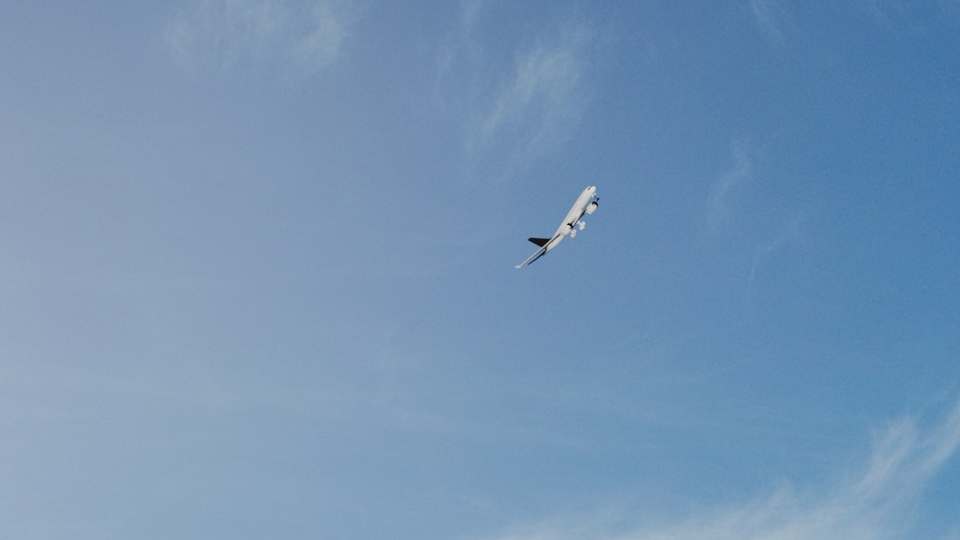plane: (509, 180, 600, 275)
